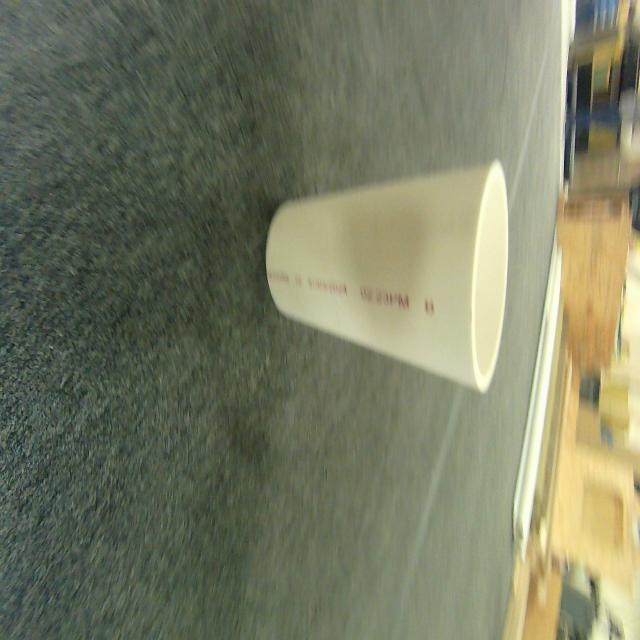coral: (266, 160, 508, 392)
